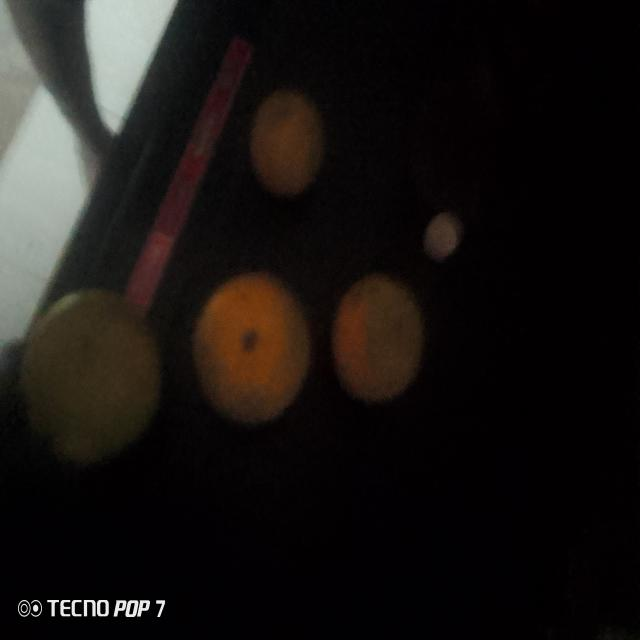Ripe orange: (20, 297, 158, 452), (198, 270, 308, 424), (334, 268, 422, 401), (242, 90, 329, 191)
